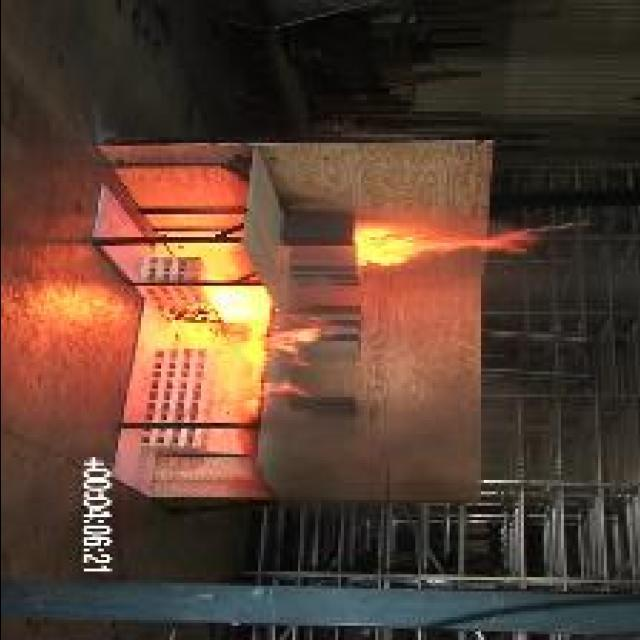Fire: (173, 291, 327, 418), (354, 227, 542, 264)
